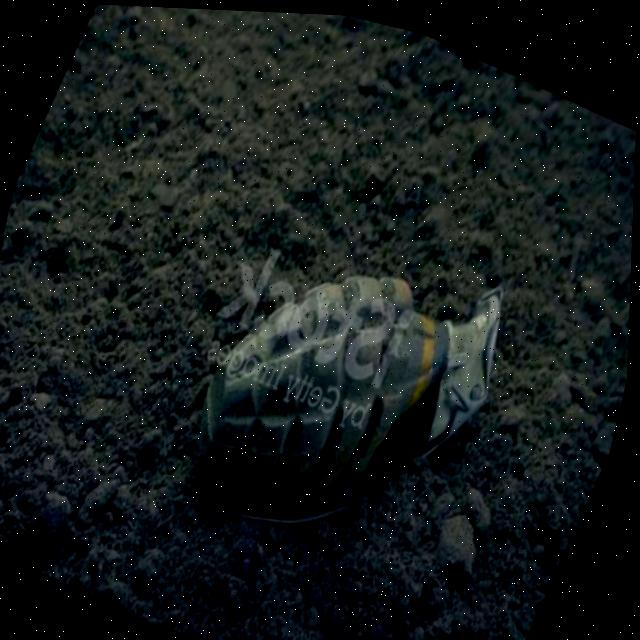grenade: (164, 188, 538, 586)
